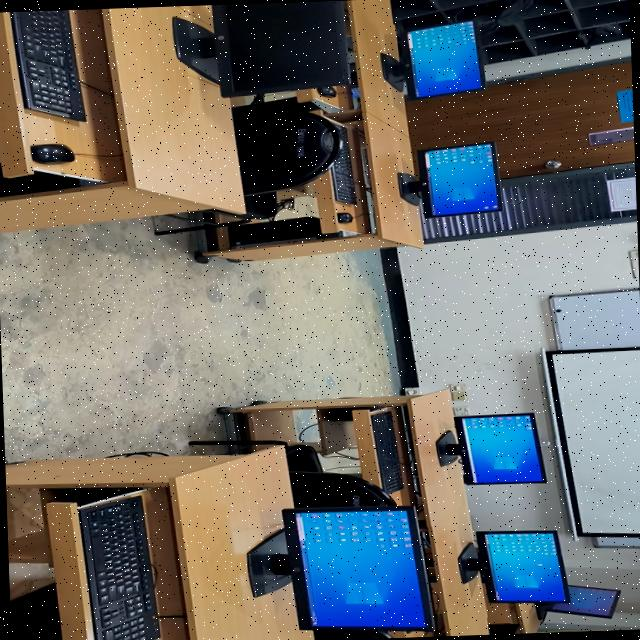Chair: (244, 110, 334, 212), (282, 446, 381, 498)
Cpu: (223, 215, 322, 248)
Keyboard: (71, 500, 164, 640), (9, 8, 91, 125), (369, 410, 406, 491), (332, 137, 358, 206)
Monitor: (250, 502, 440, 636), (162, 0, 350, 89), (452, 526, 574, 606), (435, 410, 548, 490), (380, 22, 488, 97), (398, 144, 505, 216), (546, 582, 623, 620)
Mouse: (28, 140, 82, 164), (314, 82, 338, 100), (334, 210, 358, 222)
